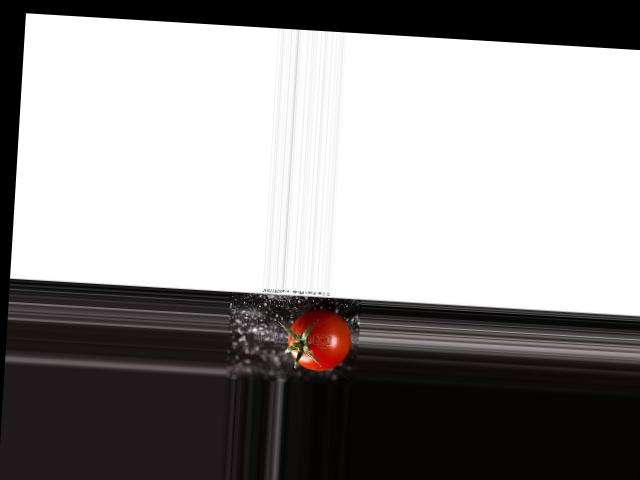tomato: (286, 308, 352, 372)
